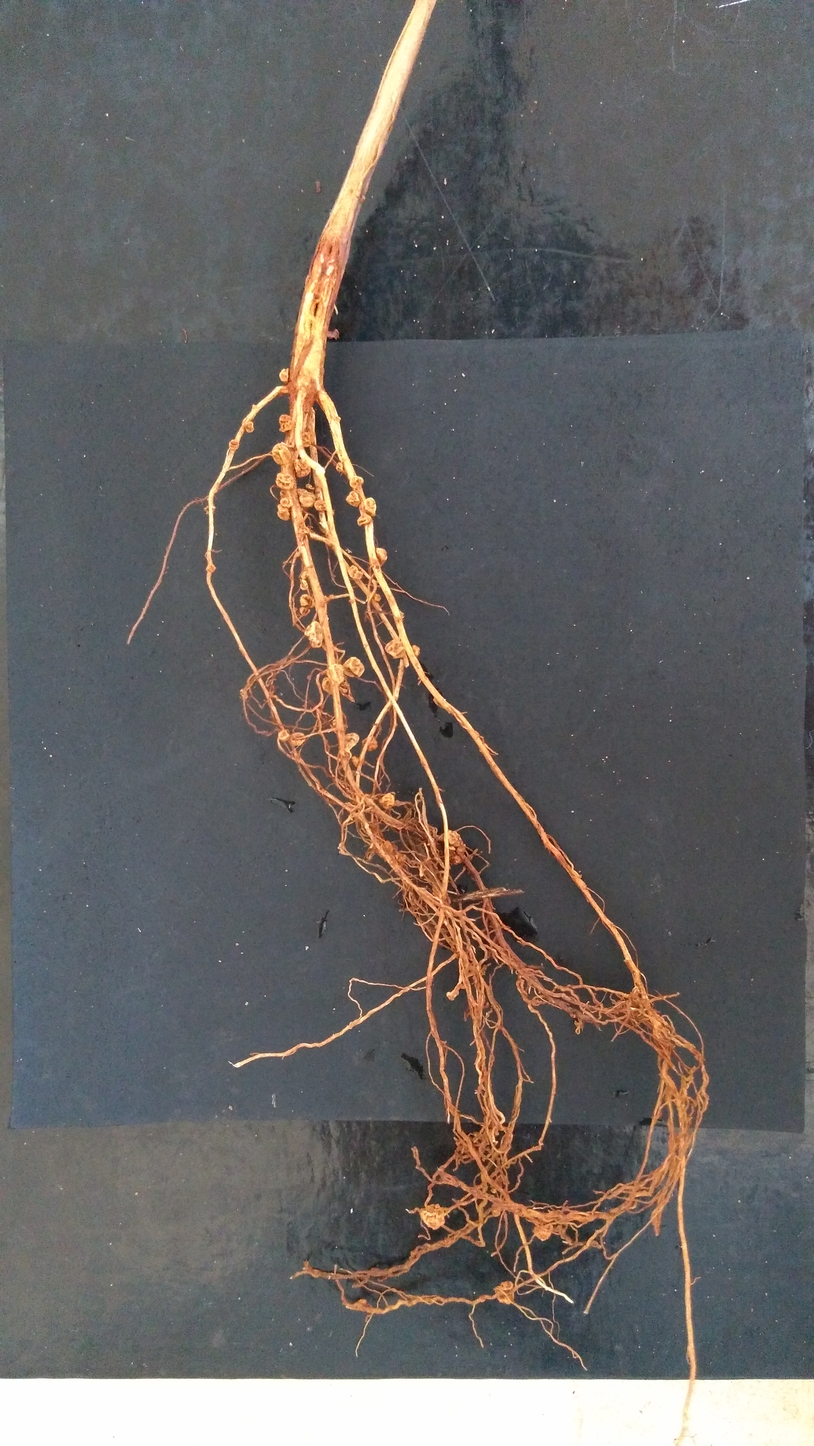nodule: (436, 830, 466, 864), (419, 1204, 445, 1230), (381, 841, 406, 865), (304, 621, 324, 648), (494, 1281, 515, 1303), (322, 677, 350, 693), (272, 443, 292, 465), (342, 657, 364, 677), (385, 638, 405, 658), (326, 664, 346, 684), (296, 488, 316, 507), (275, 472, 295, 490), (359, 497, 376, 517), (294, 459, 311, 478), (532, 1224, 552, 1240), (344, 733, 360, 750), (374, 548, 387, 568), (379, 793, 395, 809), (279, 415, 293, 433), (280, 490, 293, 509), (362, 736, 378, 751), (345, 491, 360, 507), (289, 732, 306, 746), (277, 504, 290, 521), (348, 565, 363, 579), (300, 594, 315, 608), (357, 514, 372, 526), (630, 986, 640, 1004), (350, 476, 364, 488), (314, 499, 327, 511), (278, 729, 290, 742), (491, 1203, 502, 1217), (301, 432, 311, 447), (279, 368, 289, 382), (445, 991, 459, 1001), (327, 329, 339, 340), (299, 525, 310, 536), (410, 645, 420, 657), (244, 421, 254, 433), (229, 439, 239, 450), (299, 606, 310, 616), (203, 506, 216, 514), (305, 483, 315, 493), (206, 563, 216, 572), (239, 689, 248, 699), (300, 579, 308, 590), (351, 756, 359, 767), (301, 571, 309, 580), (336, 462, 343, 472), (374, 593, 381, 602), (490, 1186, 497, 1193), (332, 718, 337, 727), (329, 594, 335, 600), (336, 416, 341, 423), (349, 599, 354, 604)
